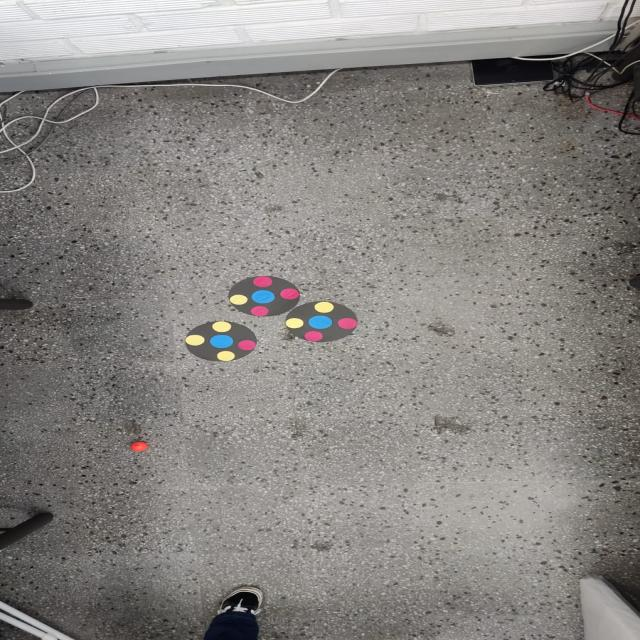0: (229, 275, 301, 316)
1: (285, 301, 358, 342)
2: (184, 321, 258, 362)
Ball: (129, 441, 148, 452)
